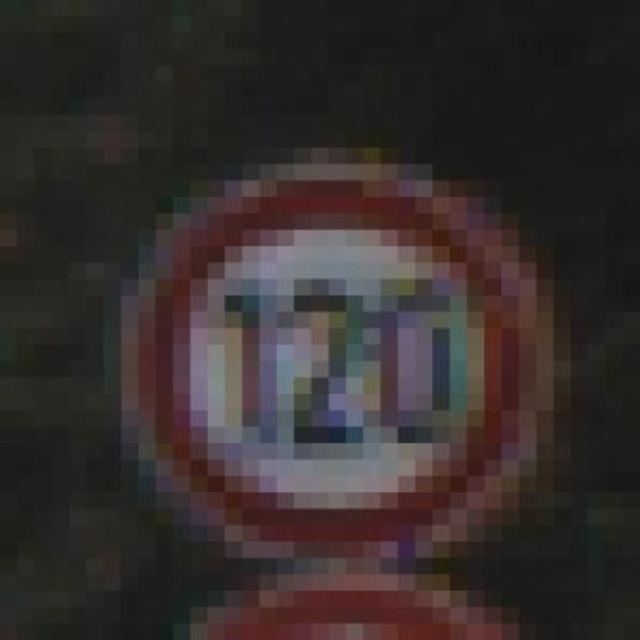Tốc độ tối đa cho phép 120km/h: (132, 175, 530, 552)
